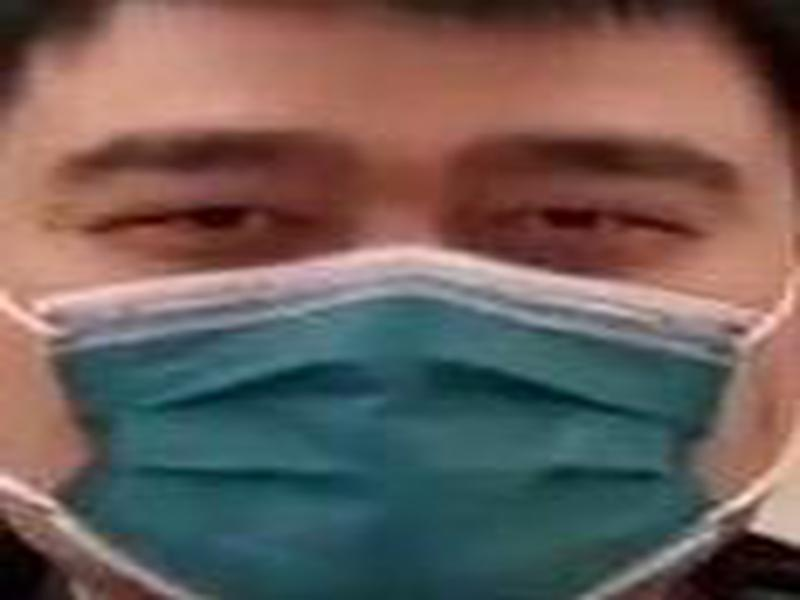with_mask: (1, 1, 796, 598)
